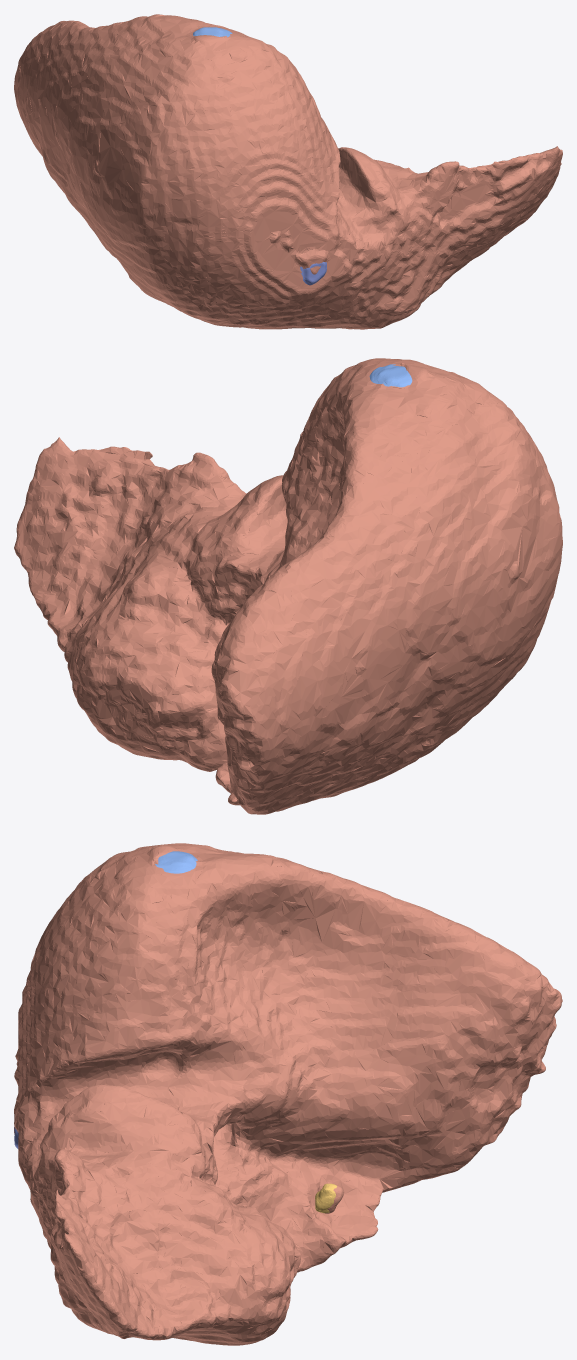
Rendered from liver_core.glb.
The picture shows the model from 3 angles, top to bottom: view 1: azimuth 30°, elevation 25°; view 2: azimuth 150°, elevation 25°; view 3: azimuth 270°, elevation 25°; orthographic projection. The views are drawn at different scales.
Visible parts, largest first — view 1: Liver_Shell; view 2: Liver_Shell, Lesion_L03; view 3: Liver_Shell, Lesion_L03.
Boxes of the visible parts, <box> form: Liver_Shell: <box>14,14,562,329</box>; Liver_Shell: <box>14,358,562,814</box>; Lesion_L03: <box>369,364,412,387</box>; Liver_Shell: <box>14,843,562,1345</box>; Lesion_L03: <box>155,851,197,873</box>.
Size of the model in its own units: 222 by 159 by 203.
